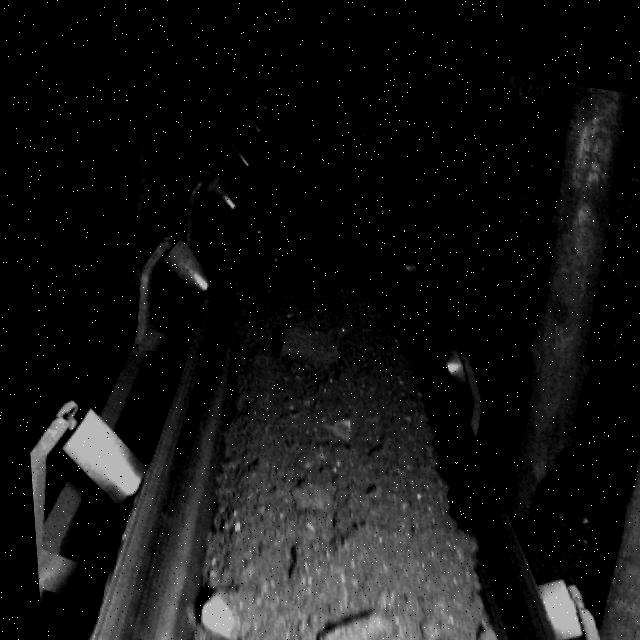large_sized_coal: (265, 306, 337, 359), (385, 626, 482, 640)
